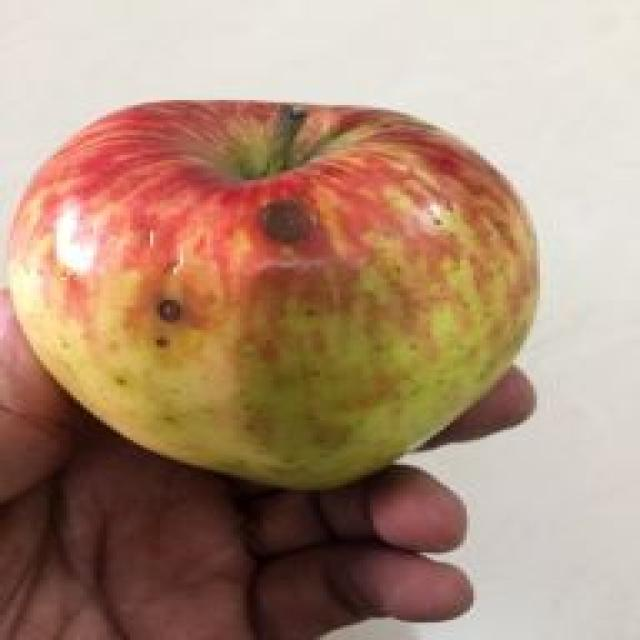Bad_Apple: (10, 101, 537, 488)
